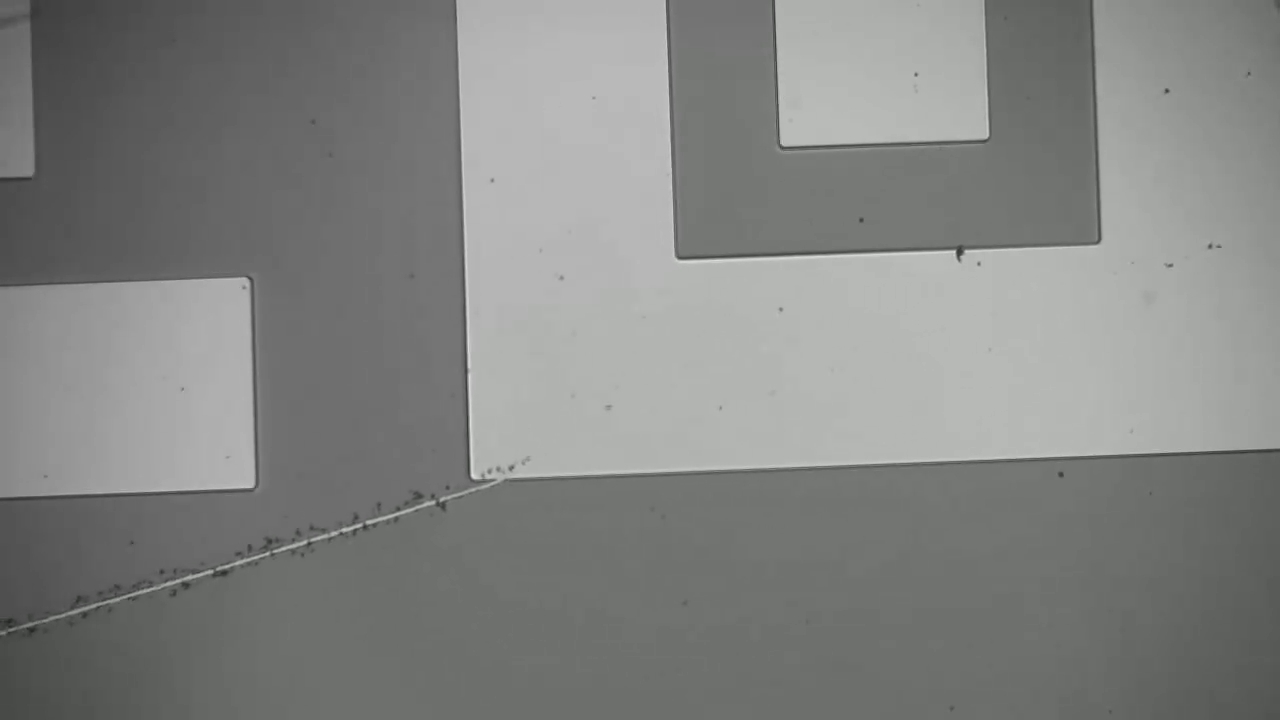scratch: (8, 479, 507, 632)
